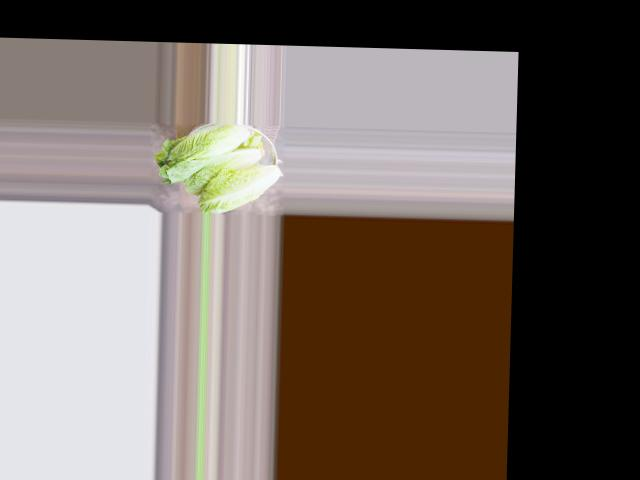lettuce: (157, 121, 261, 187)
